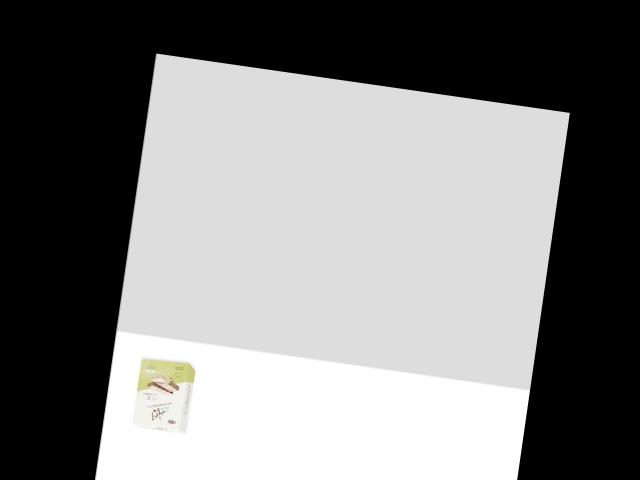chocolate: (130, 354, 201, 435)
